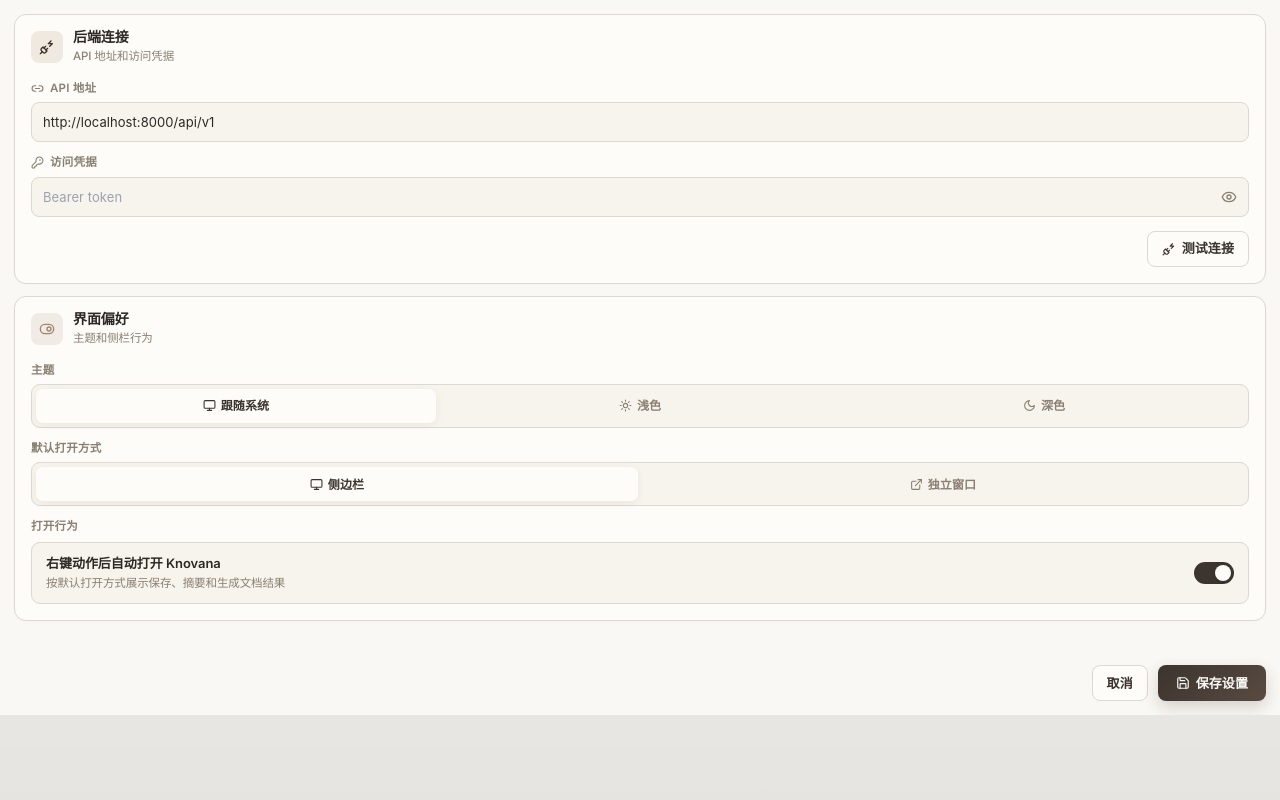
Test: SettingsPanel › persists normalized settings and reports the saved value
This screenshot has width=1280, height=800.
Step 1. Type "http://127.0.0.1:8787/" into the field labelled "API 地址" → (640, 122), box [31, 102, 1249, 142]
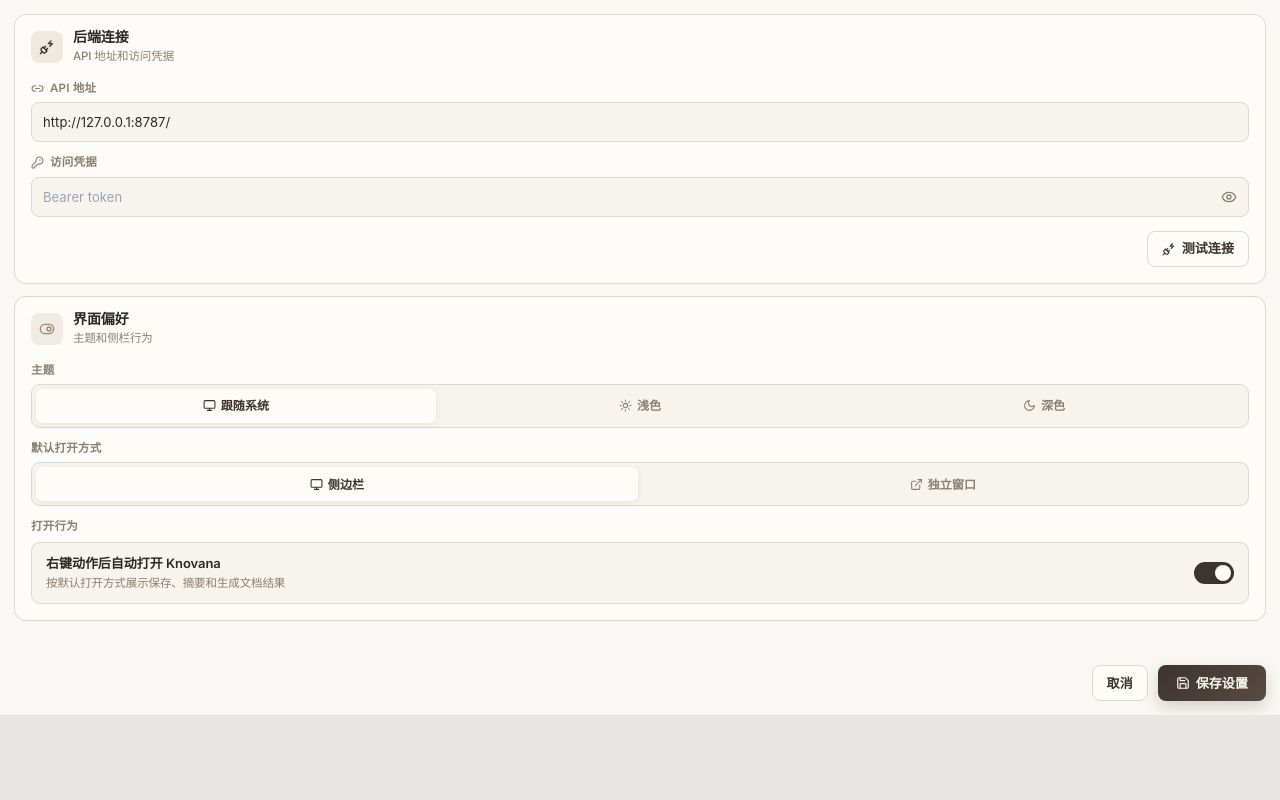
Step 2. Type "test-token" into the password field labelled "访问凭据" → (640, 197), box [31, 177, 1249, 217]
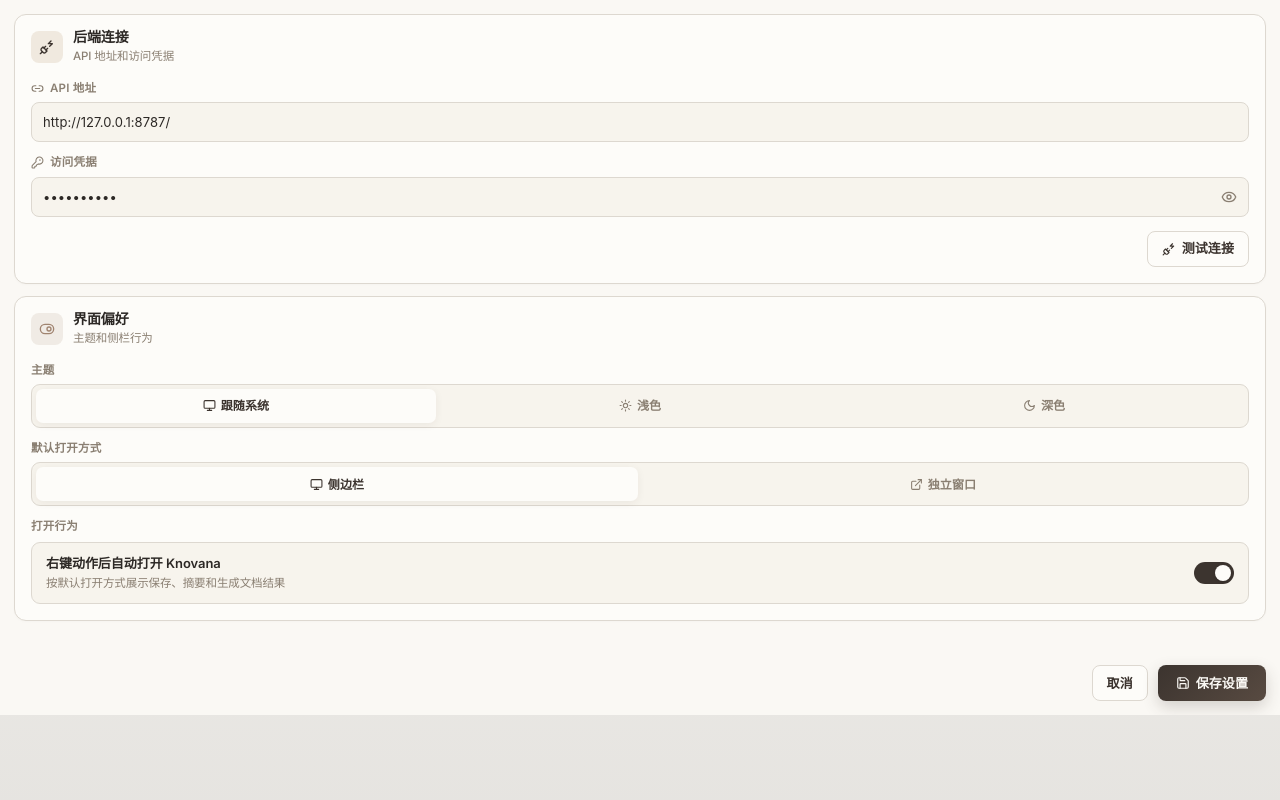
Step 3. Click the radio button labelled "深色" → (1044, 406), box [844, 389, 1244, 423]
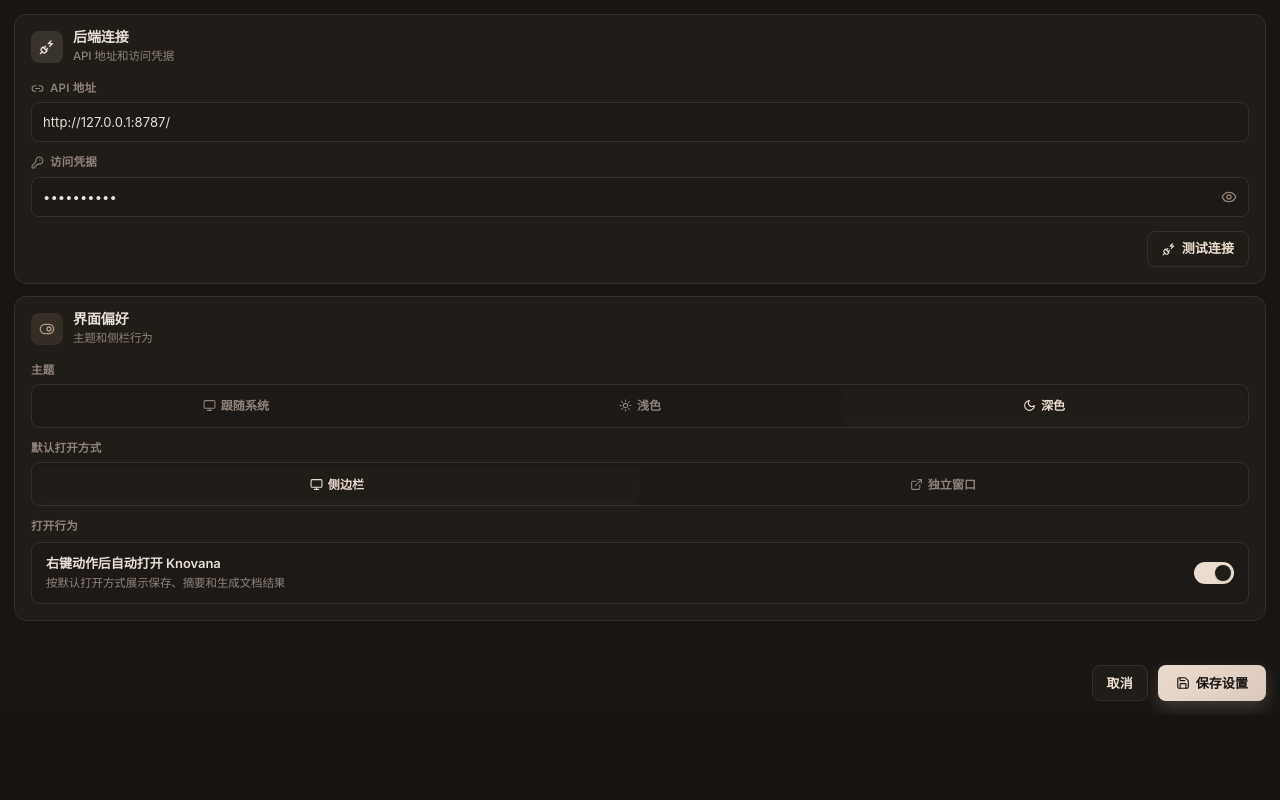
Step 4. Click the radio button labelled "独立窗口" → (943, 484), box [642, 467, 1244, 501]
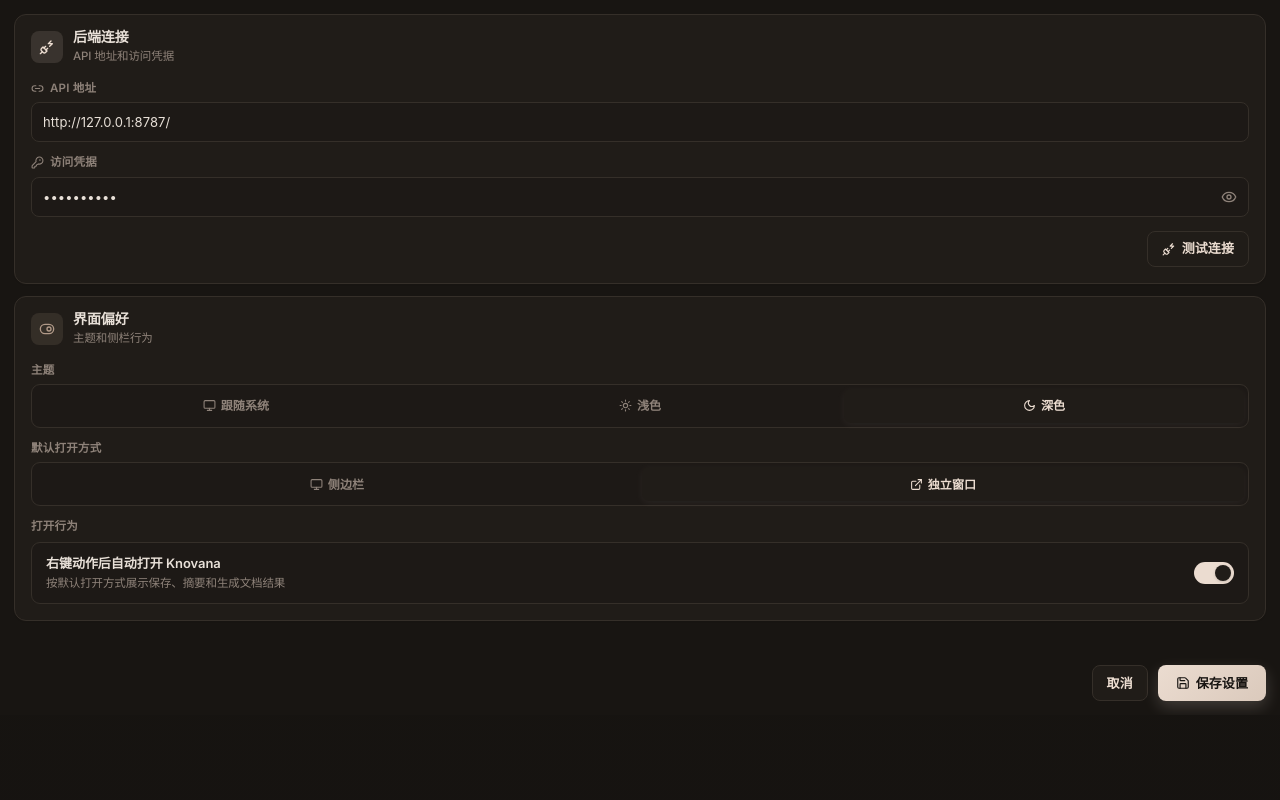
Step 5. Click the checkbox labelled "右键动作后自动打开 Knovana" → (133, 564), box [31, 542, 1249, 604]
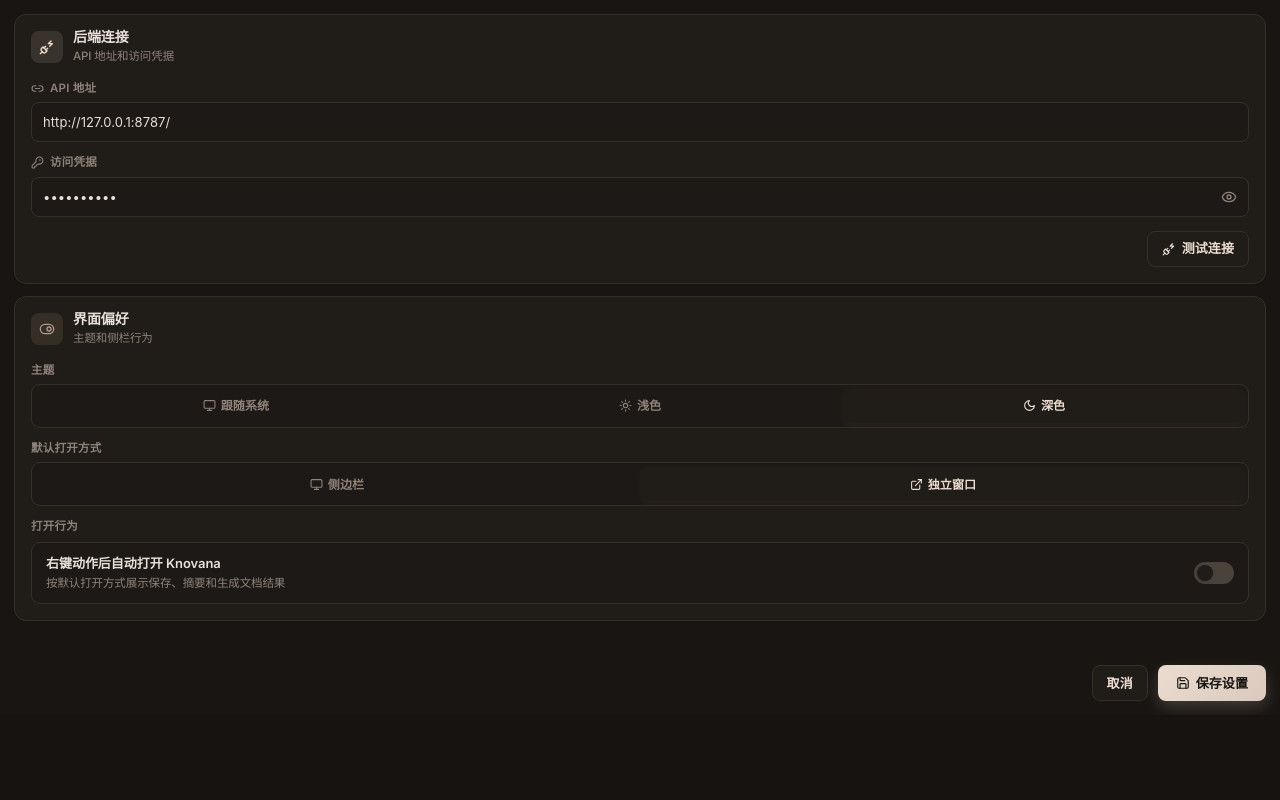
Step 6. Click the button "保存设置" → (1212, 683), box [1158, 665, 1266, 701]
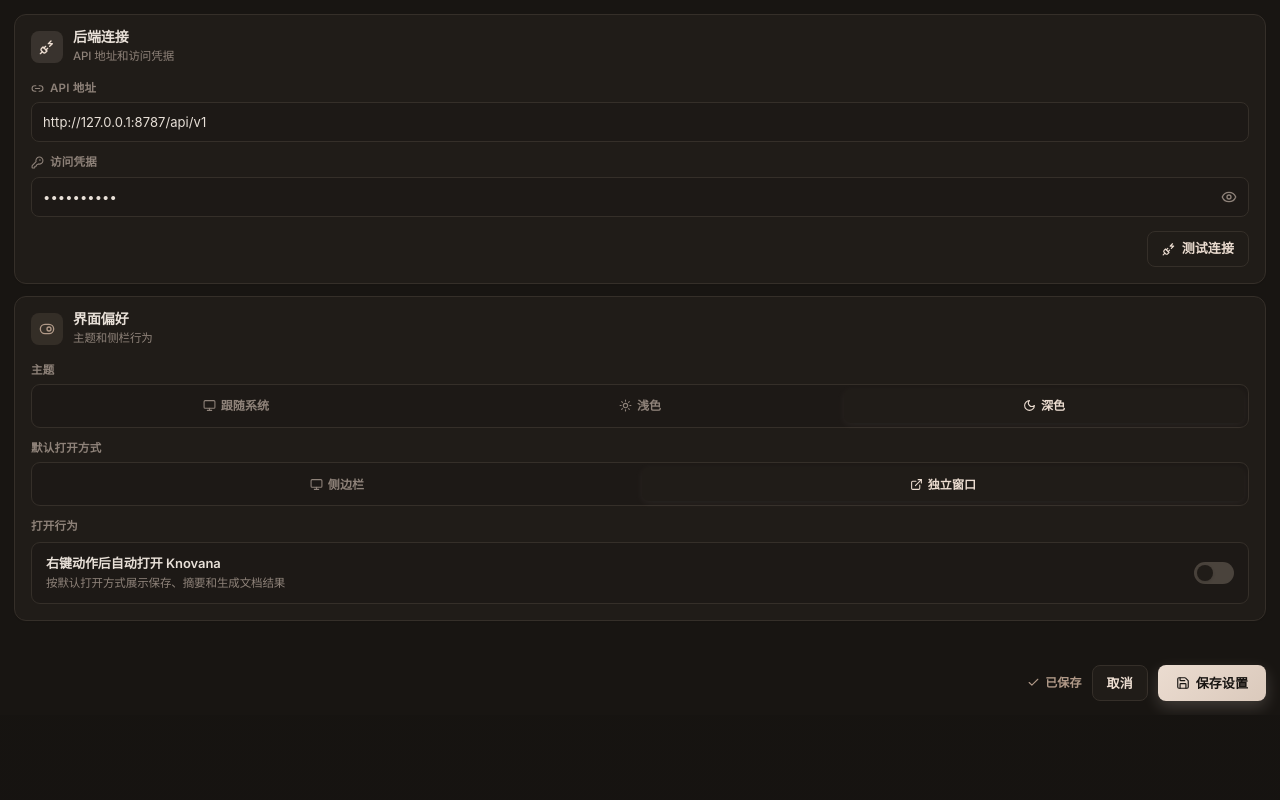
Check: the text "已保存" is shown, box [1027, 673, 1082, 693]
